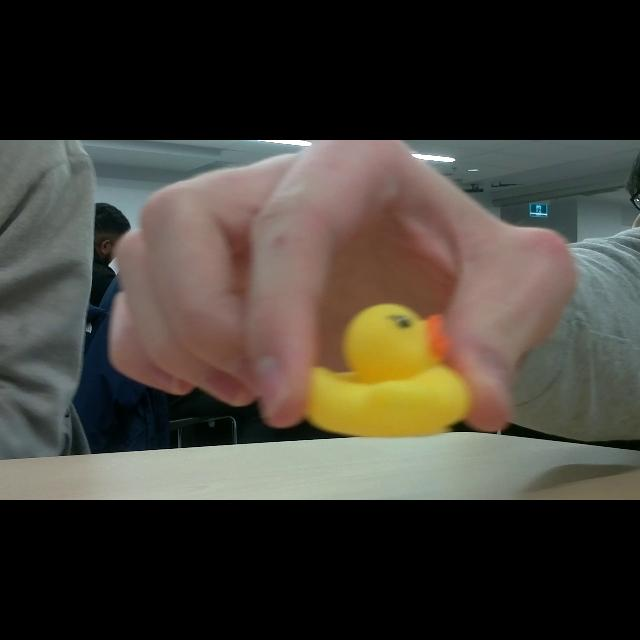duck_regular: (306, 301, 473, 439)
